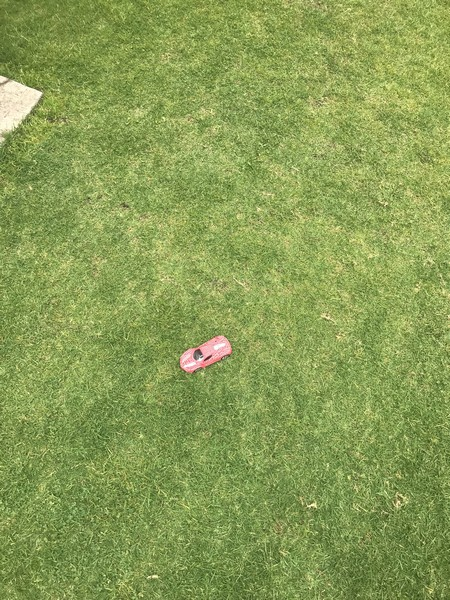RC: (176, 331, 232, 375)
